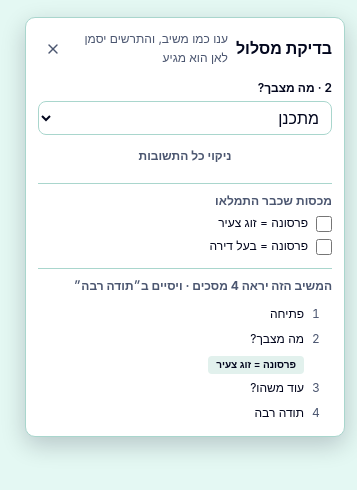
Test: the path check’s quota switches › un-ticking it puts the respondent back on the normal path
The width and height of the screenshot is (357, 490).
Click the checkbox labelled "פרסונה = זוג צעיר" at (324, 224), box [316,216,332,232]
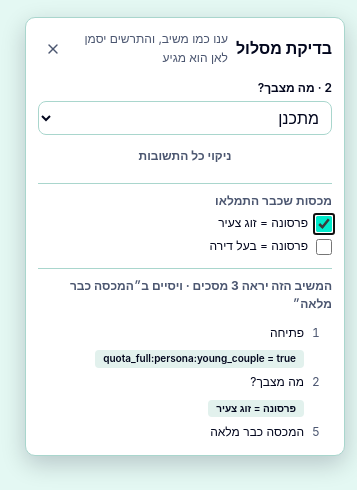
Expected: the text "המשיב הזה יראה 3 מסכים · ויסיים ב״המכסה כבר מלאה״" is shown, [38,268,332,314]
Click the checkbox labelled "פרסונה = זוג צעיר" at (324, 224), box [316,216,332,232]
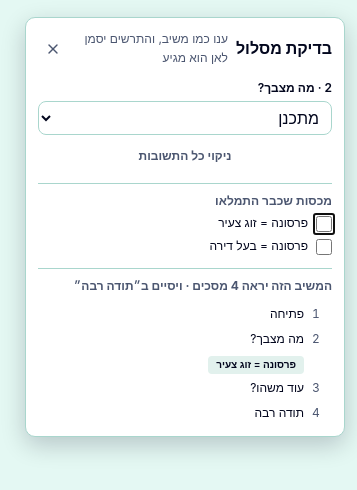
Expected: the text "המשיב הזה יראה 4 מסכים · ויסיים ב״תודה רבה״" is shown, [38,268,332,295]
